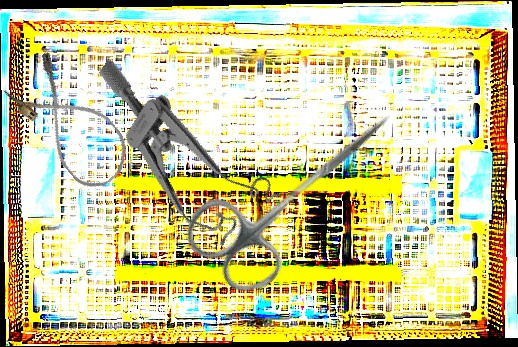Cannula: (0, 48, 141, 199)
Iris Scissors: (173, 73, 422, 307)
Speculum: (56, 58, 291, 257)
